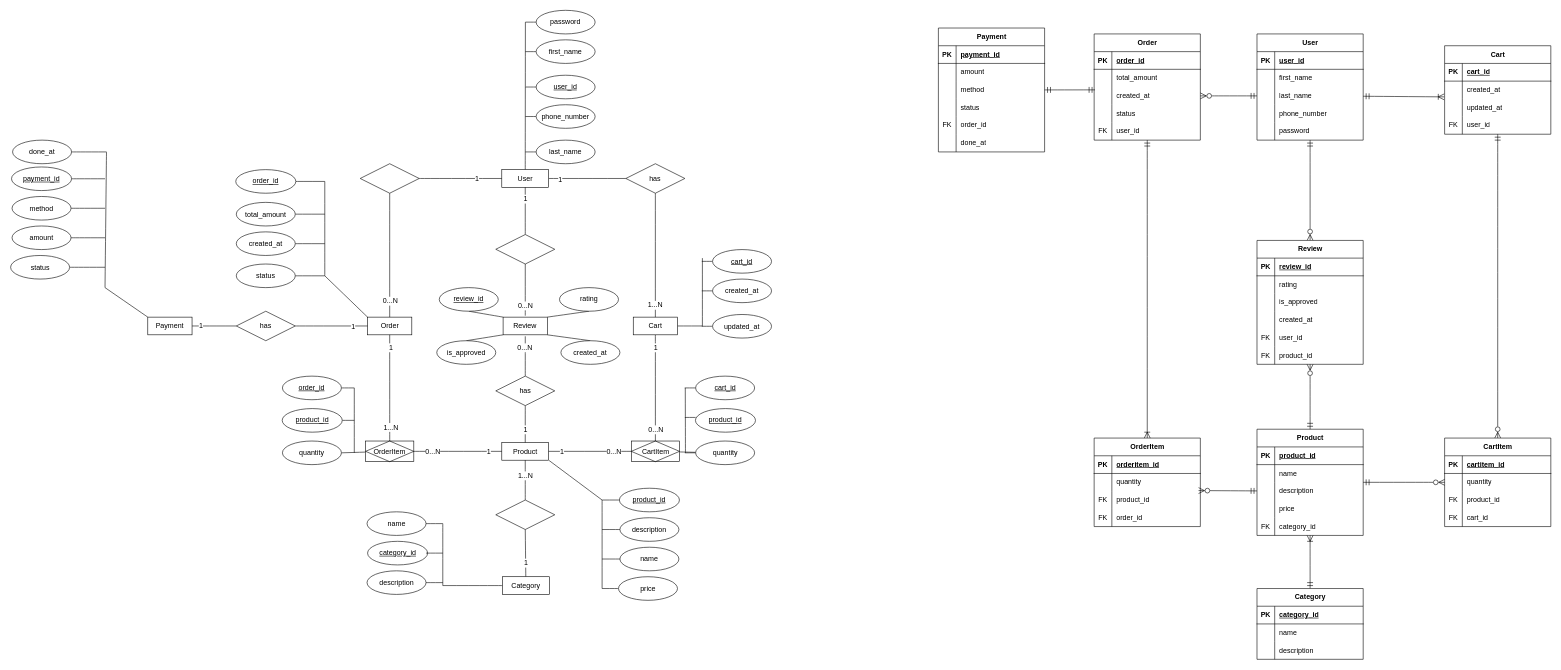
The diagram is 1561 pixels wide and 670 high, and some of its shapes have lost their labels. Here are the shapes that lost their labels. From the top down, the centre of each, then its label:
the point at 389,178: places
the point at 525,249: writes
the point at 525,514: is in
